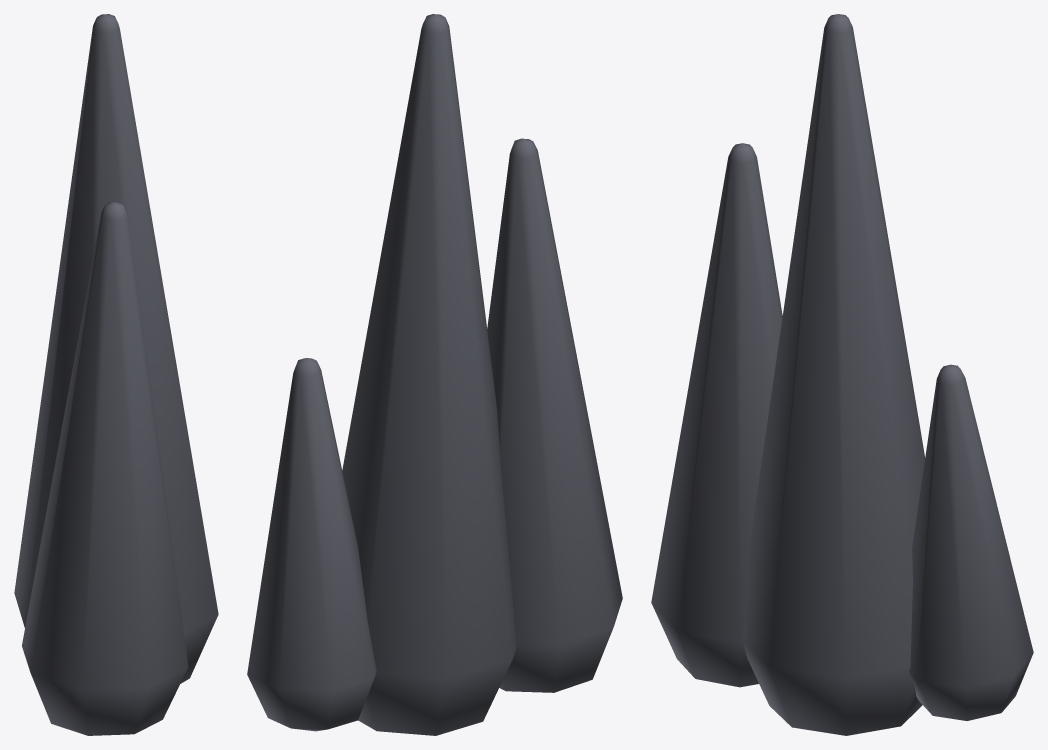
File: prop_stalag5_4946.glb
3 views of the same model, side by side, from view 1: azimuth 30°, elevation 25°; view 2: azimuth 150°, elevation 25°; view 3: azimuth 270°, elevation 25° (orthographic). The views are drawn at different scales.
Visible parts, largest first — view 1: prop_stalag5_4946; view 2: prop_stalag5_4946; view 3: prop_stalag5_4946.
Part boxes in pixels (x1,y1,x2,y2): prop_stalag5_4946: [14, 14, 218, 735]; prop_stalag5_4946: [247, 14, 622, 735]; prop_stalag5_4946: [651, 14, 1033, 735].
Bounding box in the file's own units: 0.4337 × 1.21 × 0.5892.
1 material, 1 textured.
